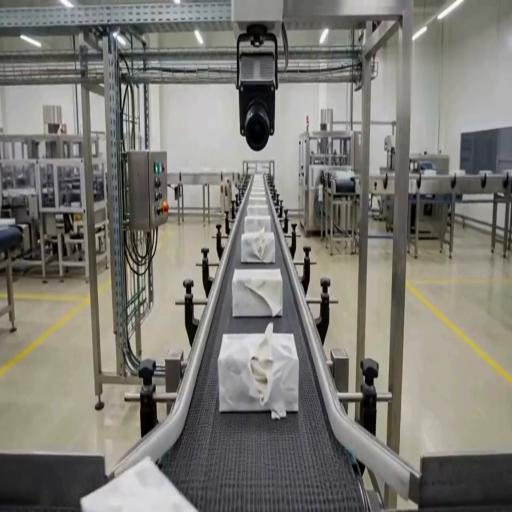defective: (217, 323, 306, 422), (231, 268, 285, 318), (240, 228, 277, 264)
good: (81, 456, 200, 510), (246, 178, 270, 203), (244, 214, 272, 234), (246, 204, 270, 217), (0, 217, 15, 226), (422, 169, 437, 176), (479, 170, 493, 176), (453, 170, 466, 176)
